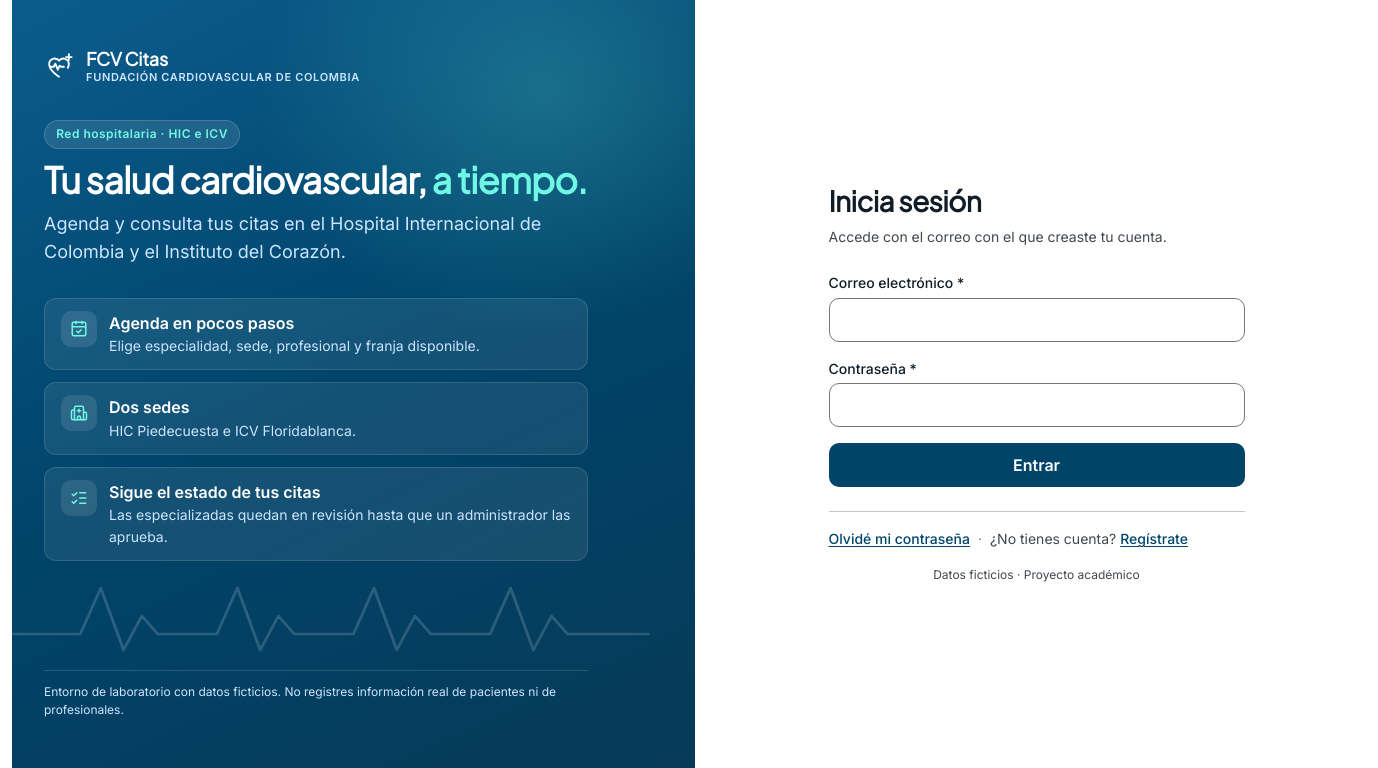
navegación por rol (HU-005 CA-08) › el USER entra a /paciente y solo ve la navegación de paciente
Step 1. Type "persona@fcv.test" into the field labelled "Correo electrónico *" → (1036, 320), box 828,298 -> 1244,342
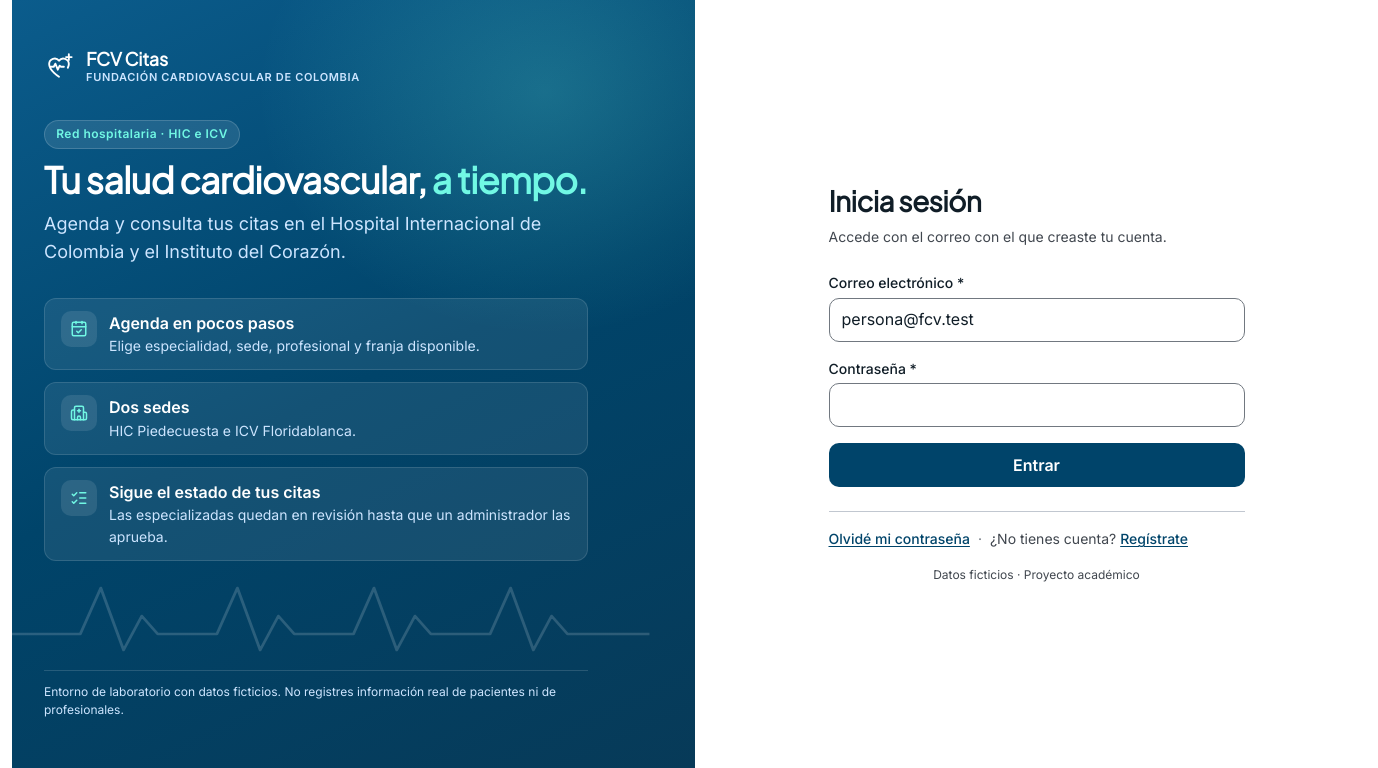
Step 2. Type "Clave-Secreta#2026" into the password field labelled "Contraseña *" → (1036, 405), box 828,383 -> 1244,427
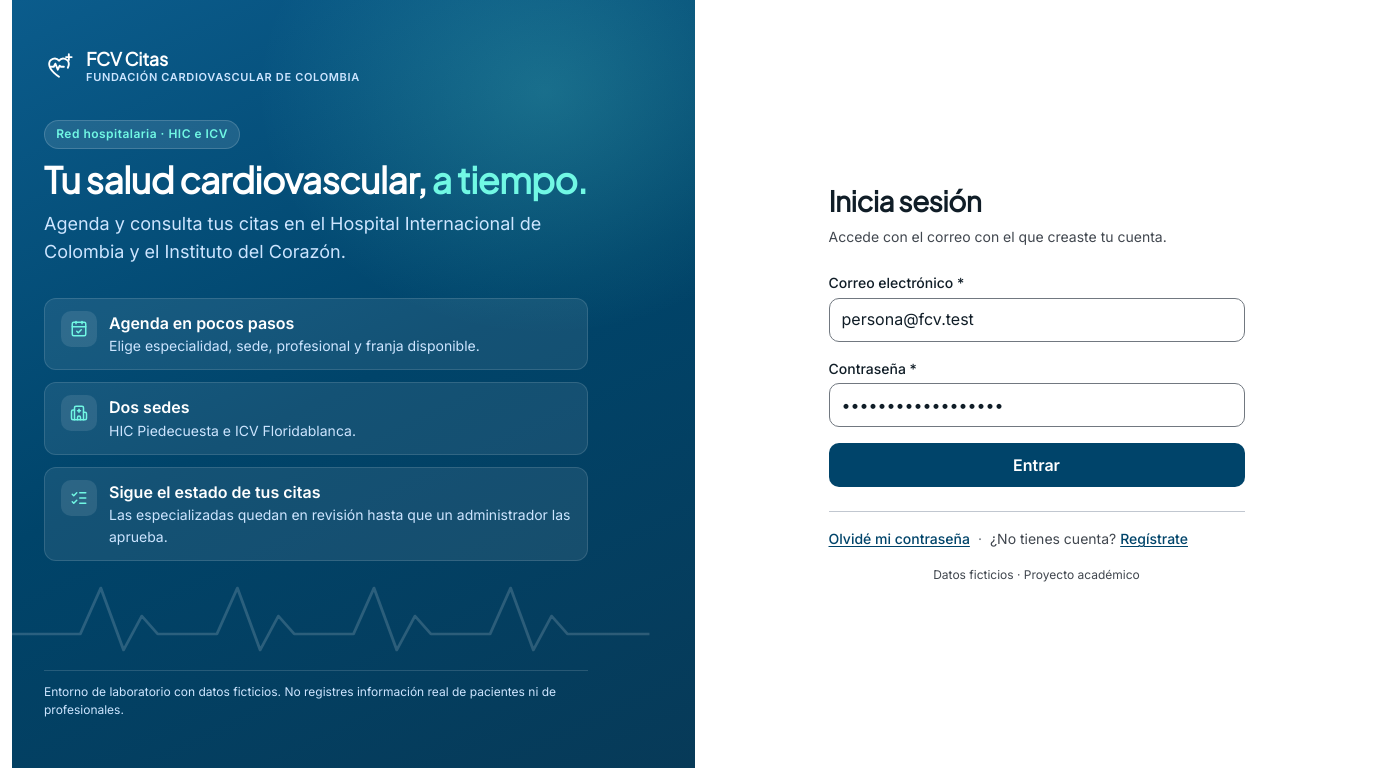
Step 3. Click the button "Entrar" → (1036, 465), box 828,443 -> 1244,487
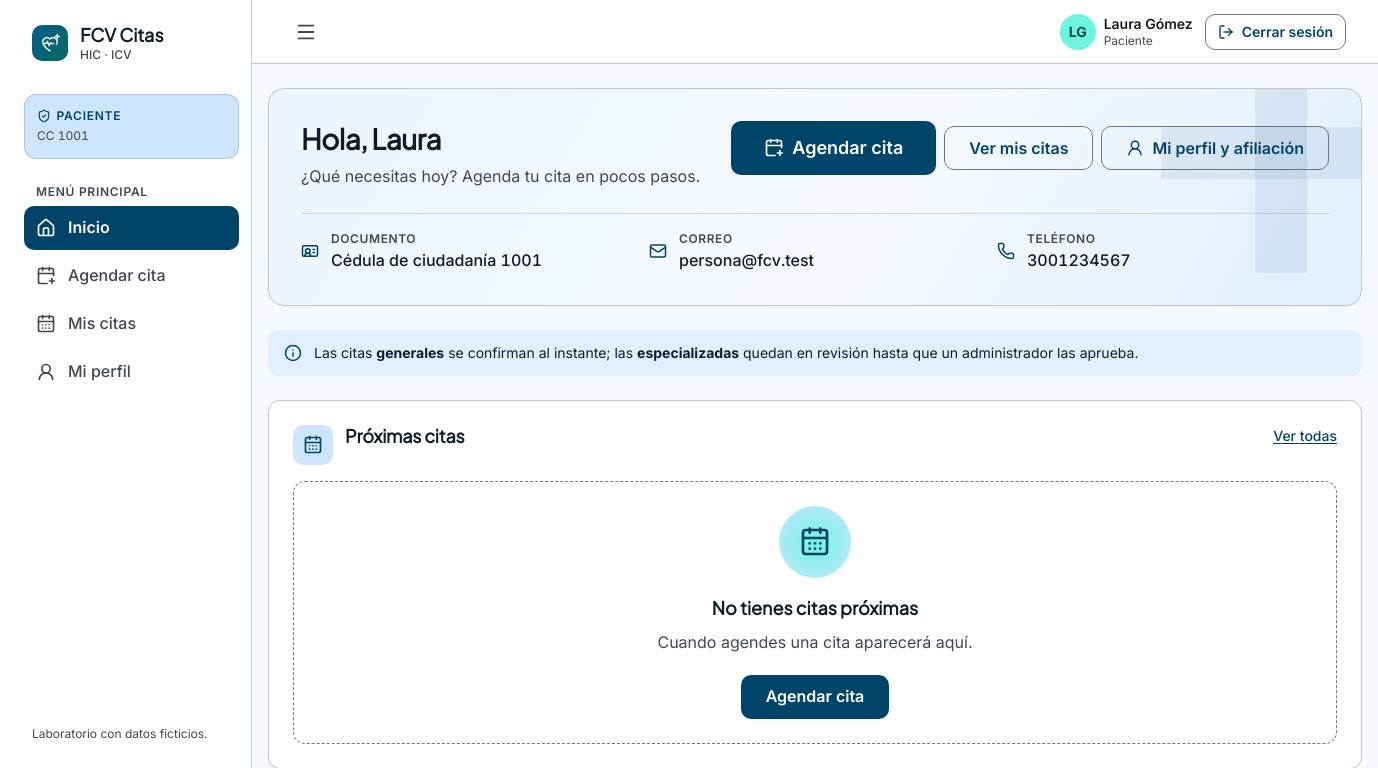
Expected: the text "Laura Gómez" is shown, 1104,15 -> 1193,33
Expected: the heading "Hola, Laura" is shown, 301,121 -> 441,156
